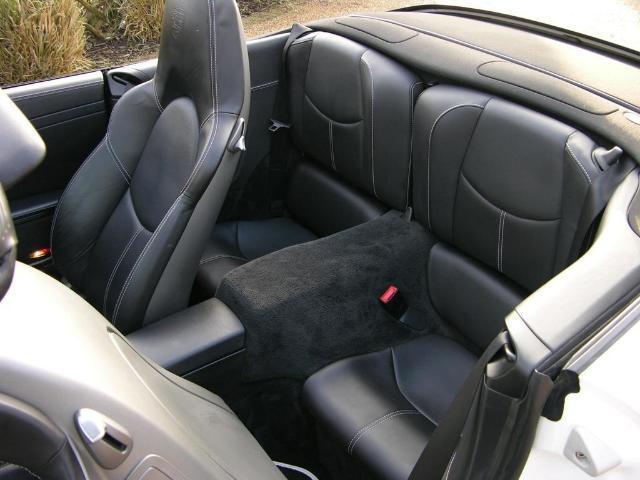Seatbelt: (404, 335, 512, 479), (264, 17, 310, 219)
